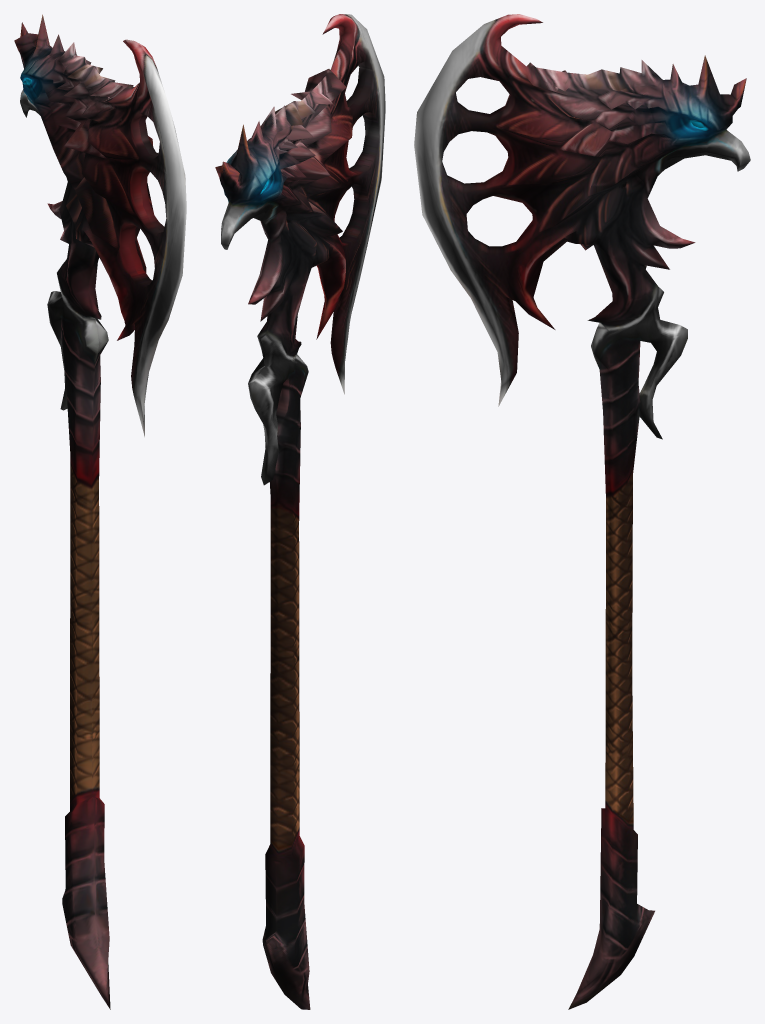
The model's file is Weapons_3.FBX.
3 renders of one model, left to right at view 1: azimuth 30°, elevation 25°; view 2: azimuth 150°, elevation 25°; view 3: azimuth 270°, elevation 25°, orthographic. The views are drawn at different scales.
Size of the model in its own units: 9.22 by 129 by 39.64.
